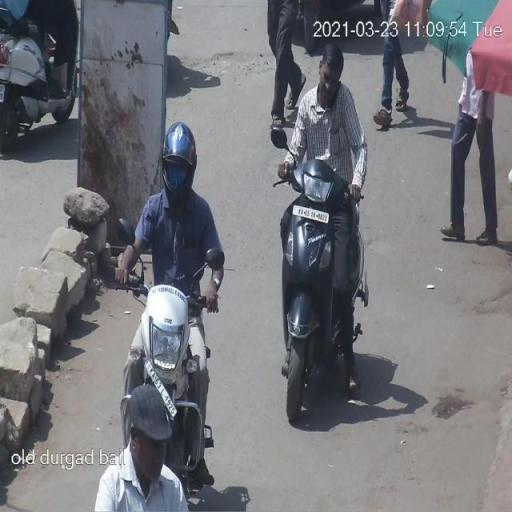numberplate: (291, 201, 331, 221)
using mobile: (314, 71, 346, 116)
